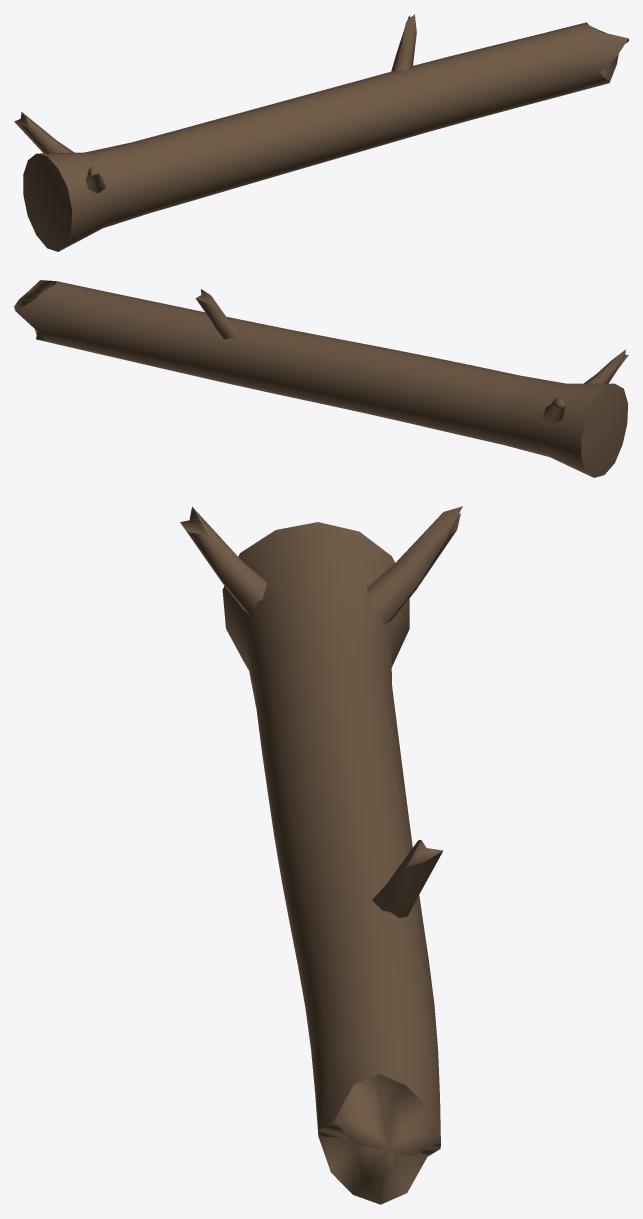
Rendered from beach_driftwood.glb.
The picture shows the model from 3 angles, top to bottom: view 1: azimuth 30°, elevation 25°; view 2: azimuth 150°, elevation 25°; view 3: azimuth 270°, elevation 25°; orthographic projection. The views are drawn at different scales.
Visible parts, largest first — view 1: beach_driftwood_lod0; view 2: beach_driftwood_lod0; view 3: beach_driftwood_lod0.
Part boxes in pixels (x1=…): beach_driftwood_lod0: x1=14, y1=14, x2=628, y2=251; beach_driftwood_lod0: x1=14, y1=280, x2=628, y2=477; beach_driftwood_lod0: x1=180, y1=506, x2=462, y2=1204.
Size of what is drawn, in the model's own units: 2.75 by 0.5183 by 0.5875.
